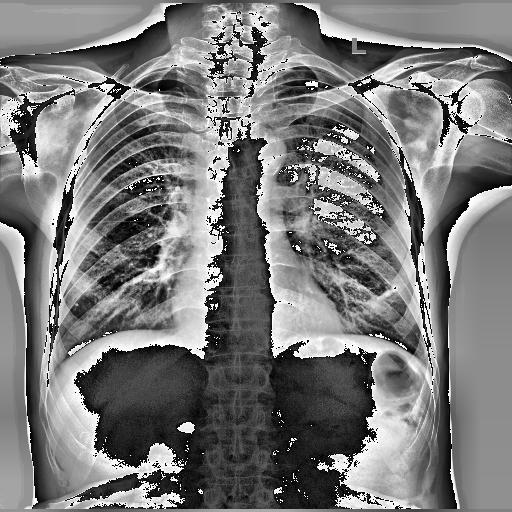0- Aortic enlargement: (251, 134, 286, 176)
13- Pulmonary fibrosis: (120, 103, 147, 128), (370, 284, 398, 302)
2- Calcification: (370, 284, 398, 302), (376, 284, 398, 302), (377, 283, 398, 301)
8- Nodule-Mass: (136, 115, 158, 126)
